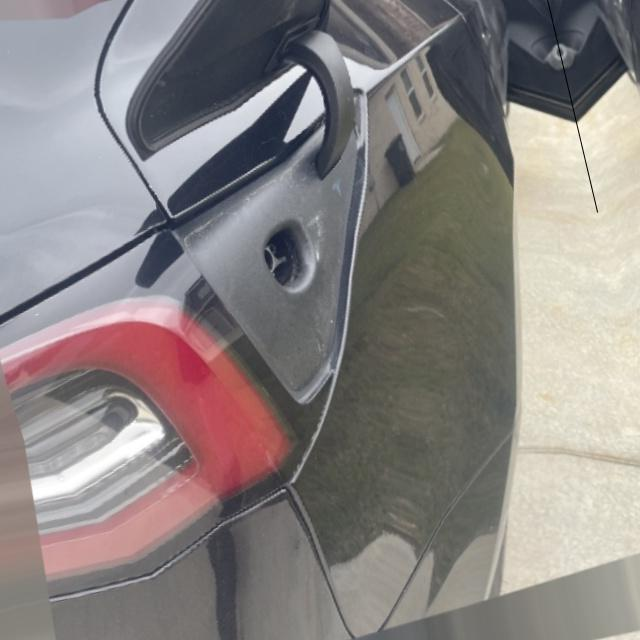Tesla Model-S-: (256, 206, 326, 312)
